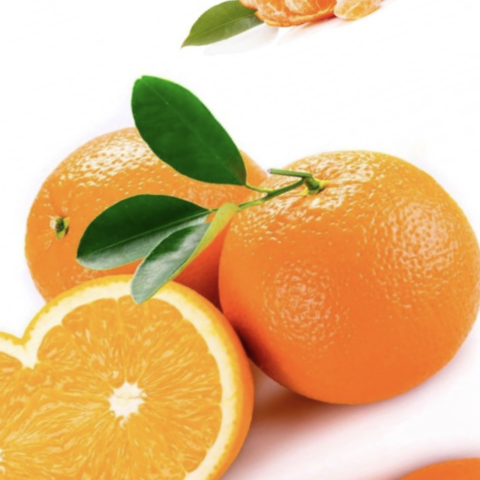orange: (155, 81, 480, 461), (0, 71, 342, 398)
